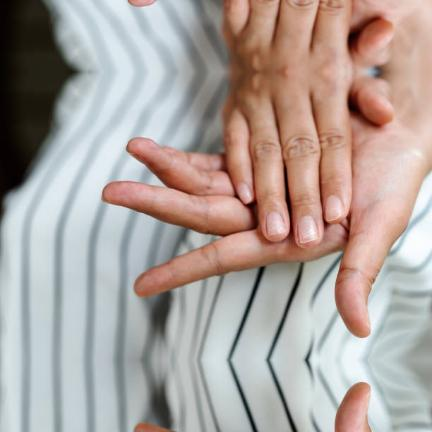Nail: (298, 216, 319, 244), (325, 195, 344, 223), (267, 211, 287, 237), (237, 183, 254, 205)
